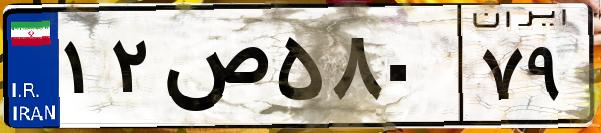0: (385, 28, 445, 110)
1: (57, 26, 110, 100)
2: (110, 28, 158, 98)
5: (270, 28, 330, 110)
7: (475, 38, 525, 113)
8: (330, 28, 385, 110)
9: (525, 38, 570, 115)
ص: (158, 20, 270, 120)
